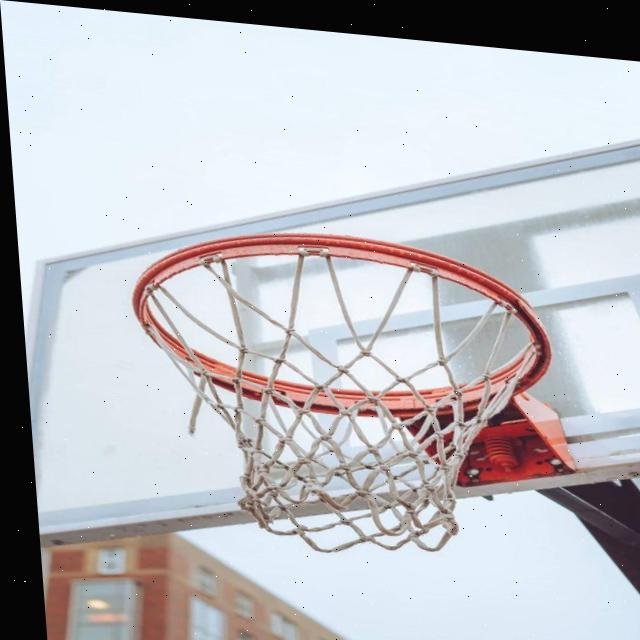hoop: (95, 236, 596, 587)
